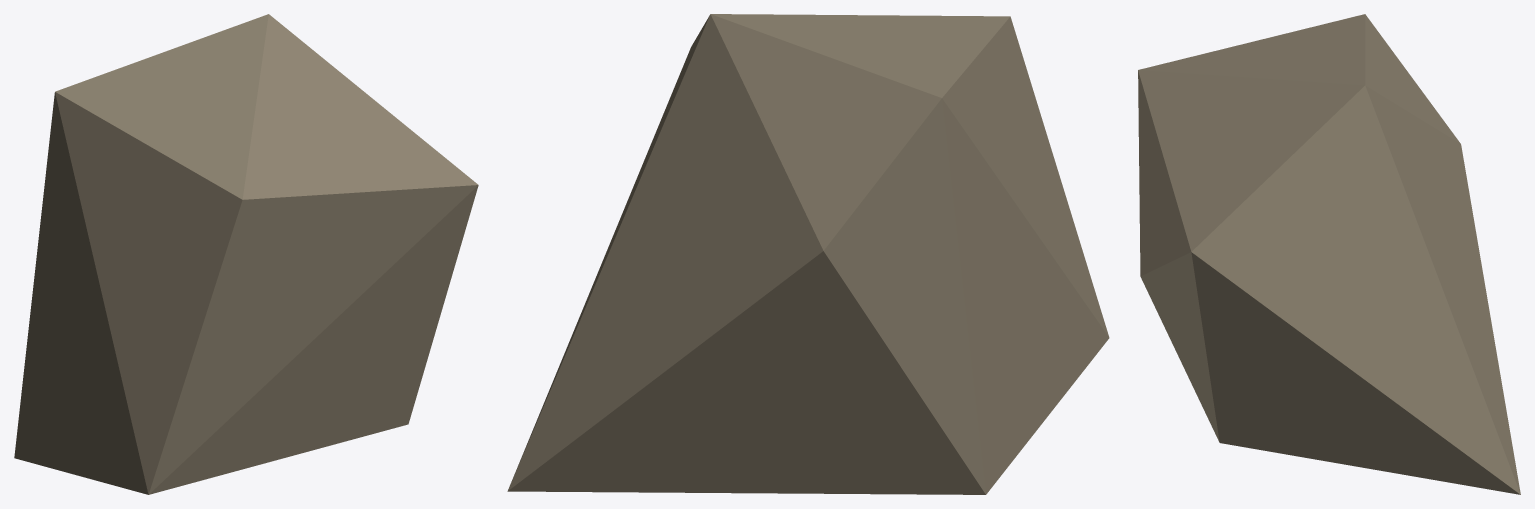
Rendered from Stone_03_Baked.fbx.
The picture shows the model from 3 angles, left to right: view 1: azimuth 30°, elevation 25°; view 2: azimuth 150°, elevation 25°; view 3: azimuth 270°, elevation 25°; orthographic projection. The views are drawn at different scales.
Visible parts, largest first — view 1: Stone03; view 2: Stone03; view 3: Stone03.
Boxes of the visible parts, x1,y1,x2,y2 form: Stone03: (14,14,478,494); Stone03: (507,14,1109,494); Stone03: (1138,14,1520,494).
Bounding box in the file's own units: 70.44 × 73.61 × 70.02.
